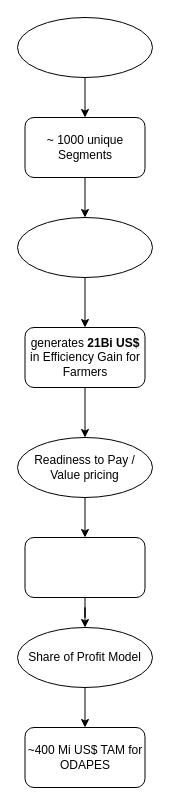
The diagram is 170 pixels wide and 805 high, and some of its shapes have lost their labels. The shapes that lost their labels are listed below. From the top down, each one's box as (x1, y1, x2, y2) in pixels, then its label:
(16, 16, 152, 78): Fractal Segmentation
(16, 216, 152, 278): Allows for specific Solutions
(24, 536, 145, 598): generates 3,8Bi US$ in Profit for Consultant
